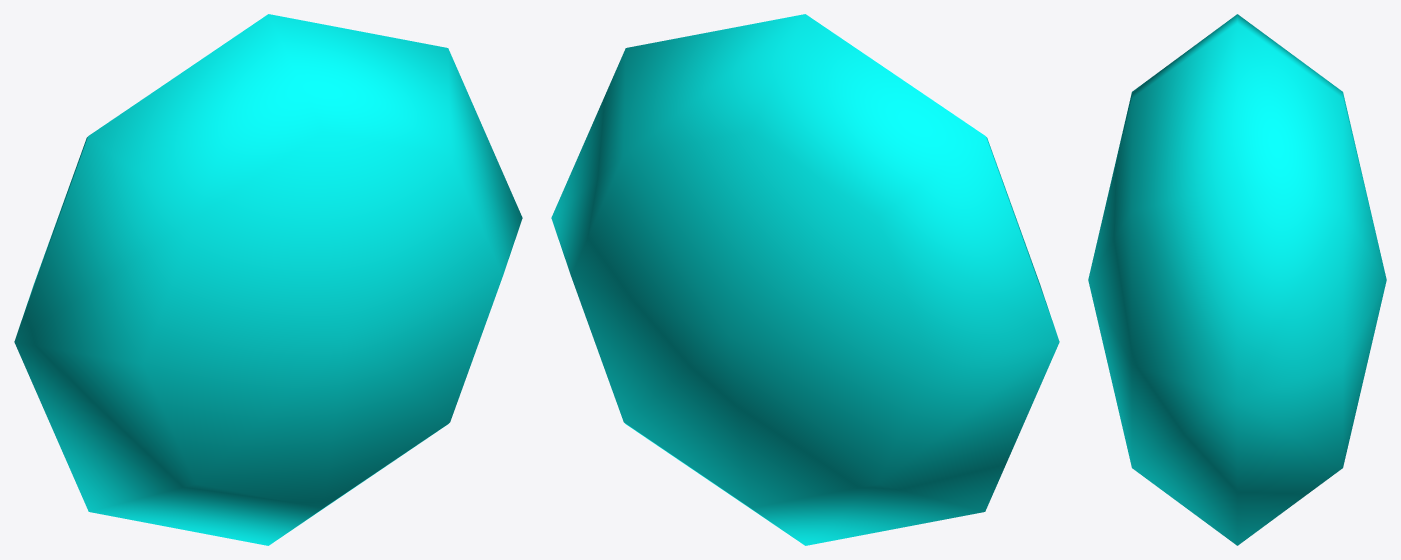
The model's file is Stone1.DAE.
3 renders of one model, left to right at view 1: azimuth 30°, elevation 25°; view 2: azimuth 150°, elevation 25°; view 3: azimuth 270°, elevation 25°, orthographic. The views are drawn at different scales.
Visible parts, largest first — view 1: Stone1; view 2: Stone1; view 3: Stone1.
Boxes of the visible parts, box(x1,y1,x2,y2) form: Stone1: box(14, 14, 522, 545); Stone1: box(551, 14, 1059, 545); Stone1: box(1088, 14, 1386, 545).
Size of the model in its own units: 53.63 by 53.63 by 28.28.
